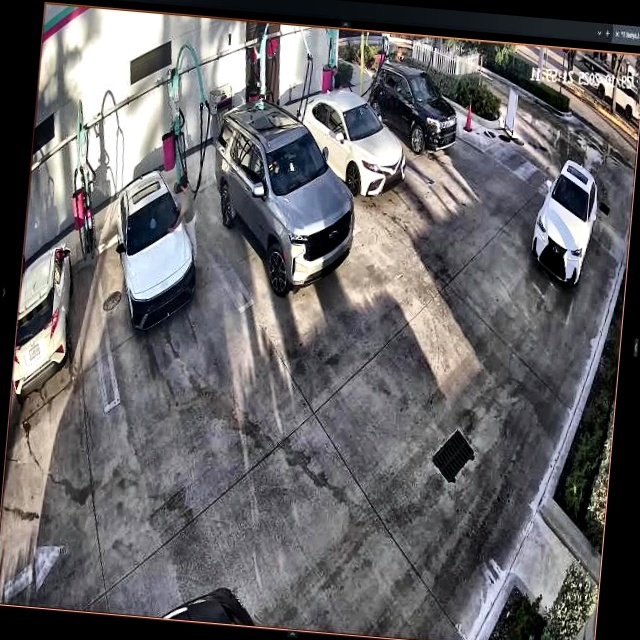Car: (205, 100, 362, 301), (106, 167, 203, 338), (291, 90, 411, 200), (367, 58, 462, 157)
